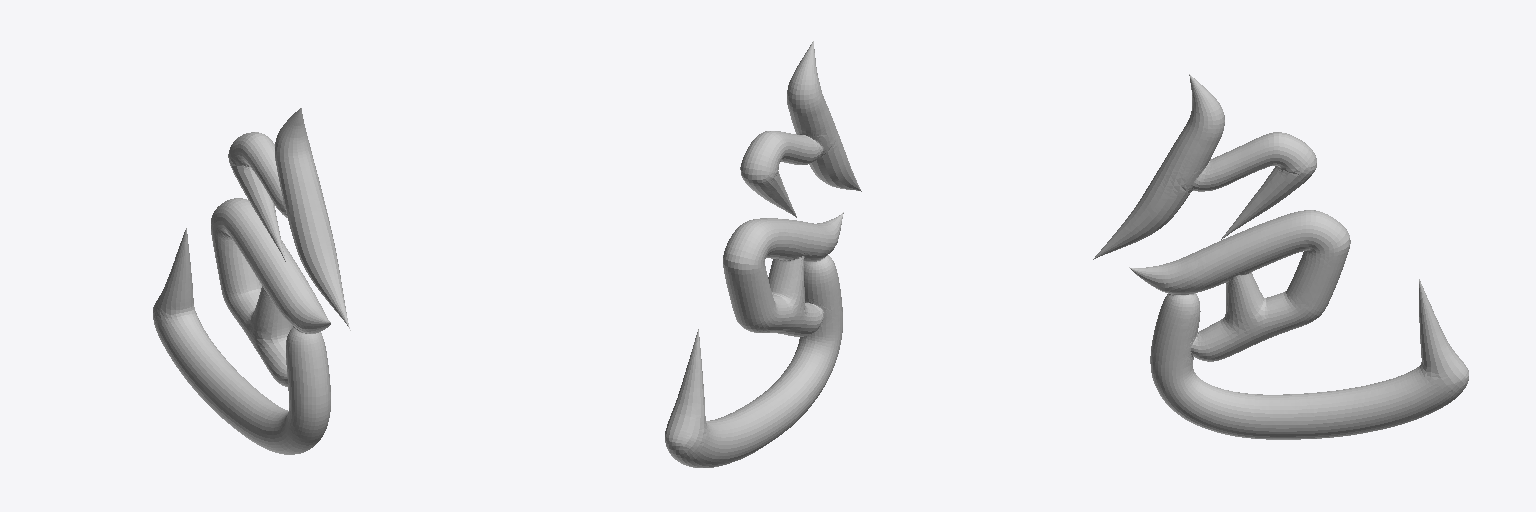
3 renders of one model, left to right at view 1: azimuth 30°, elevation 25°; view 2: azimuth 150°, elevation 25°; view 3: azimuth 270°, elevation 25°, orthographic.
Parts seen in each view (by area): view 1: tripo_node_[number redacted]-dca4-4a95-a3e7-f9111cddc0de; view 2: tripo_node_[number redacted]-dca4-4a95-a3e7-f9111cddc0de; view 3: tripo_node_[number redacted]-dca4-4a95-a3e7-f9111cddc0de.
Part boxes in pixels (x1,y1,x2,y2): tripo_node_[number redacted]-dca4-4a95-a3e7-f9111cddc0de: (153,108,350,454); tripo_node_[number redacted]-dca4-4a95-a3e7-f9111cddc0de: (665,41,861,467); tripo_node_[number redacted]-dca4-4a95-a3e7-f9111cddc0de: (1093,74,1468,439).
Size of the model in its own units: 0.1055 by 0.9968 by 0.9407.